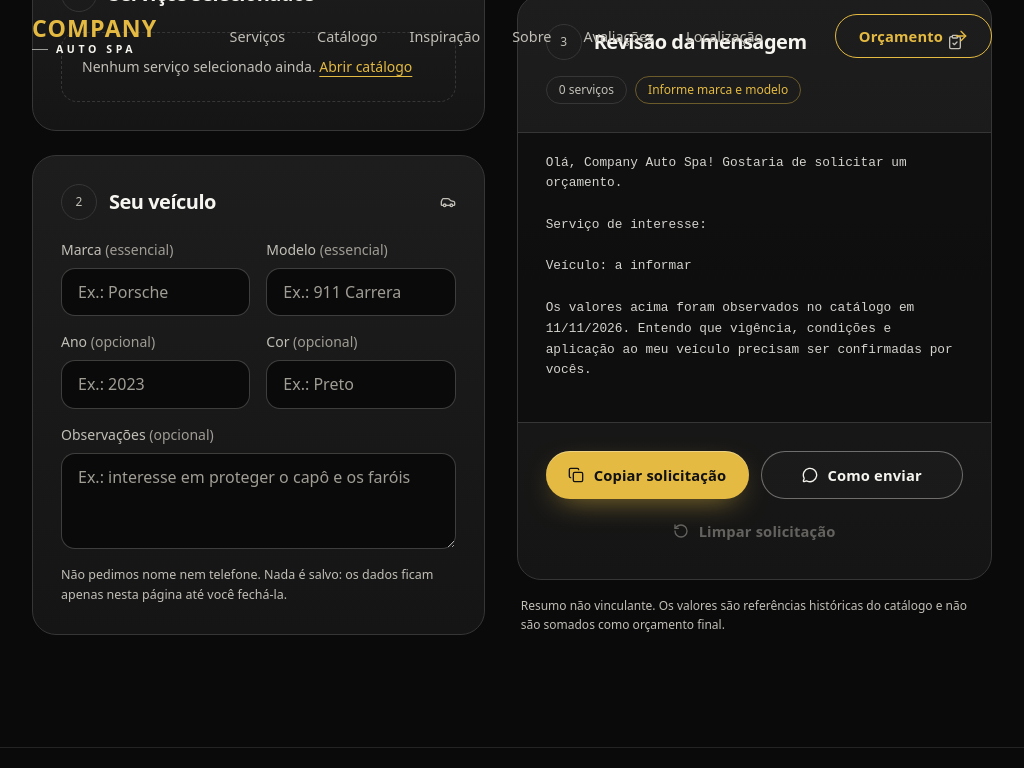
Scenario: App › copiar sem serviços mostra erro em vez de copiar
(page scrolled)
Click the button "Copiar solicitação" at (647, 475), box [546,451,749,499]
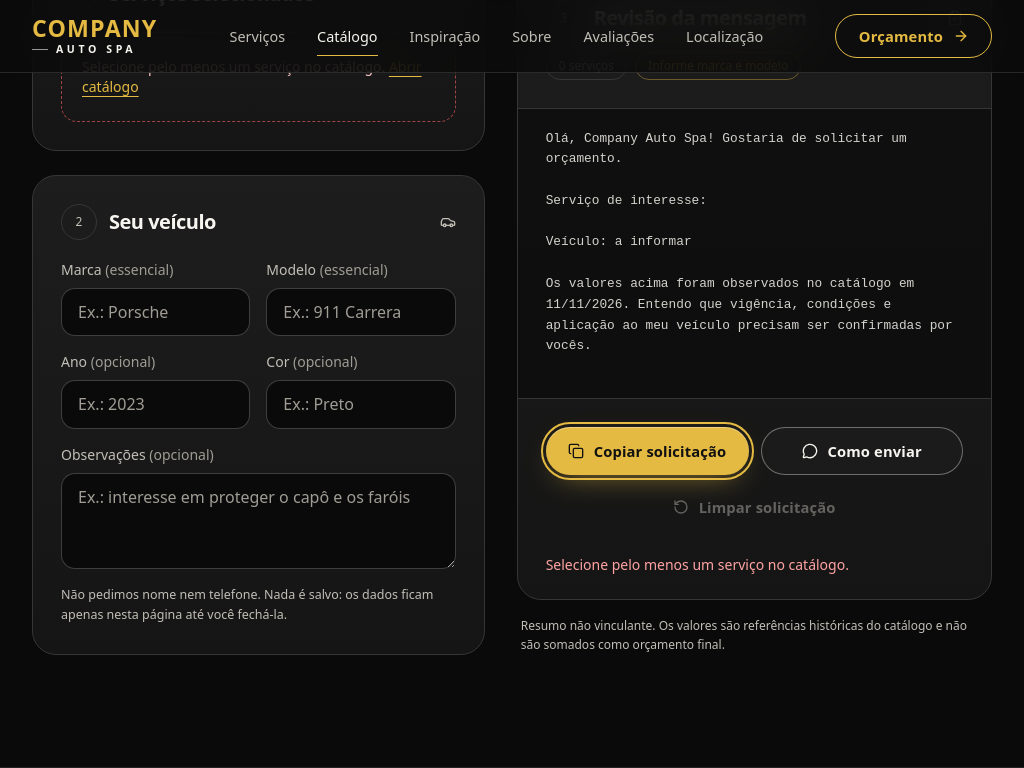
expect the message "Selecione pelo menos um serviço no catálogo. Abrir catálogo" is shown: met, box [61,32,456,122]
